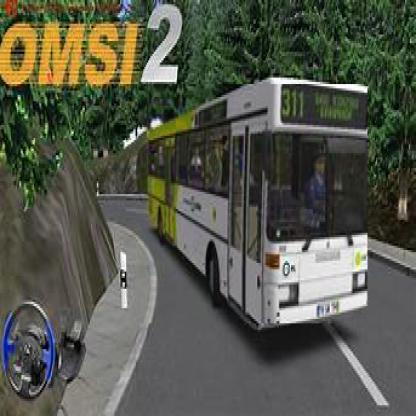bus: (139, 85, 370, 327)
